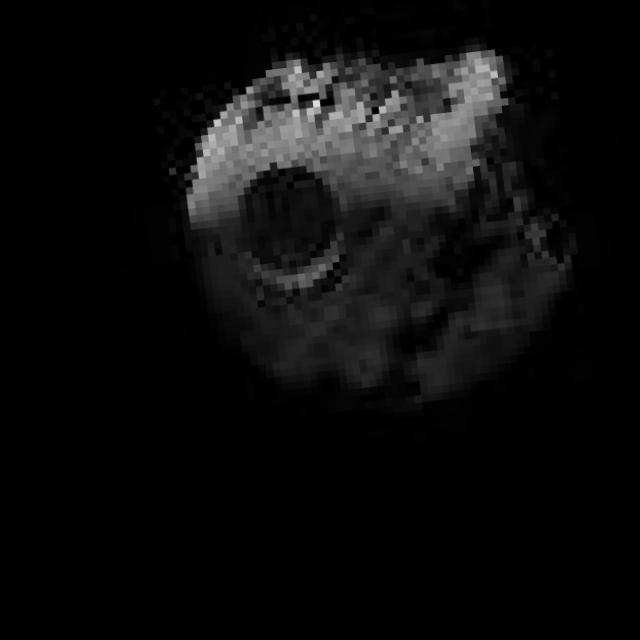Death Star: (154, 12, 602, 449)
